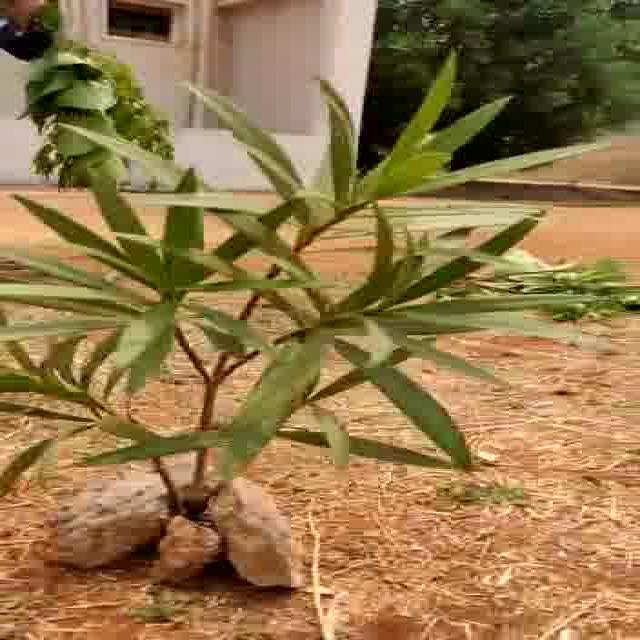Oleander: (0, 113, 633, 481)
